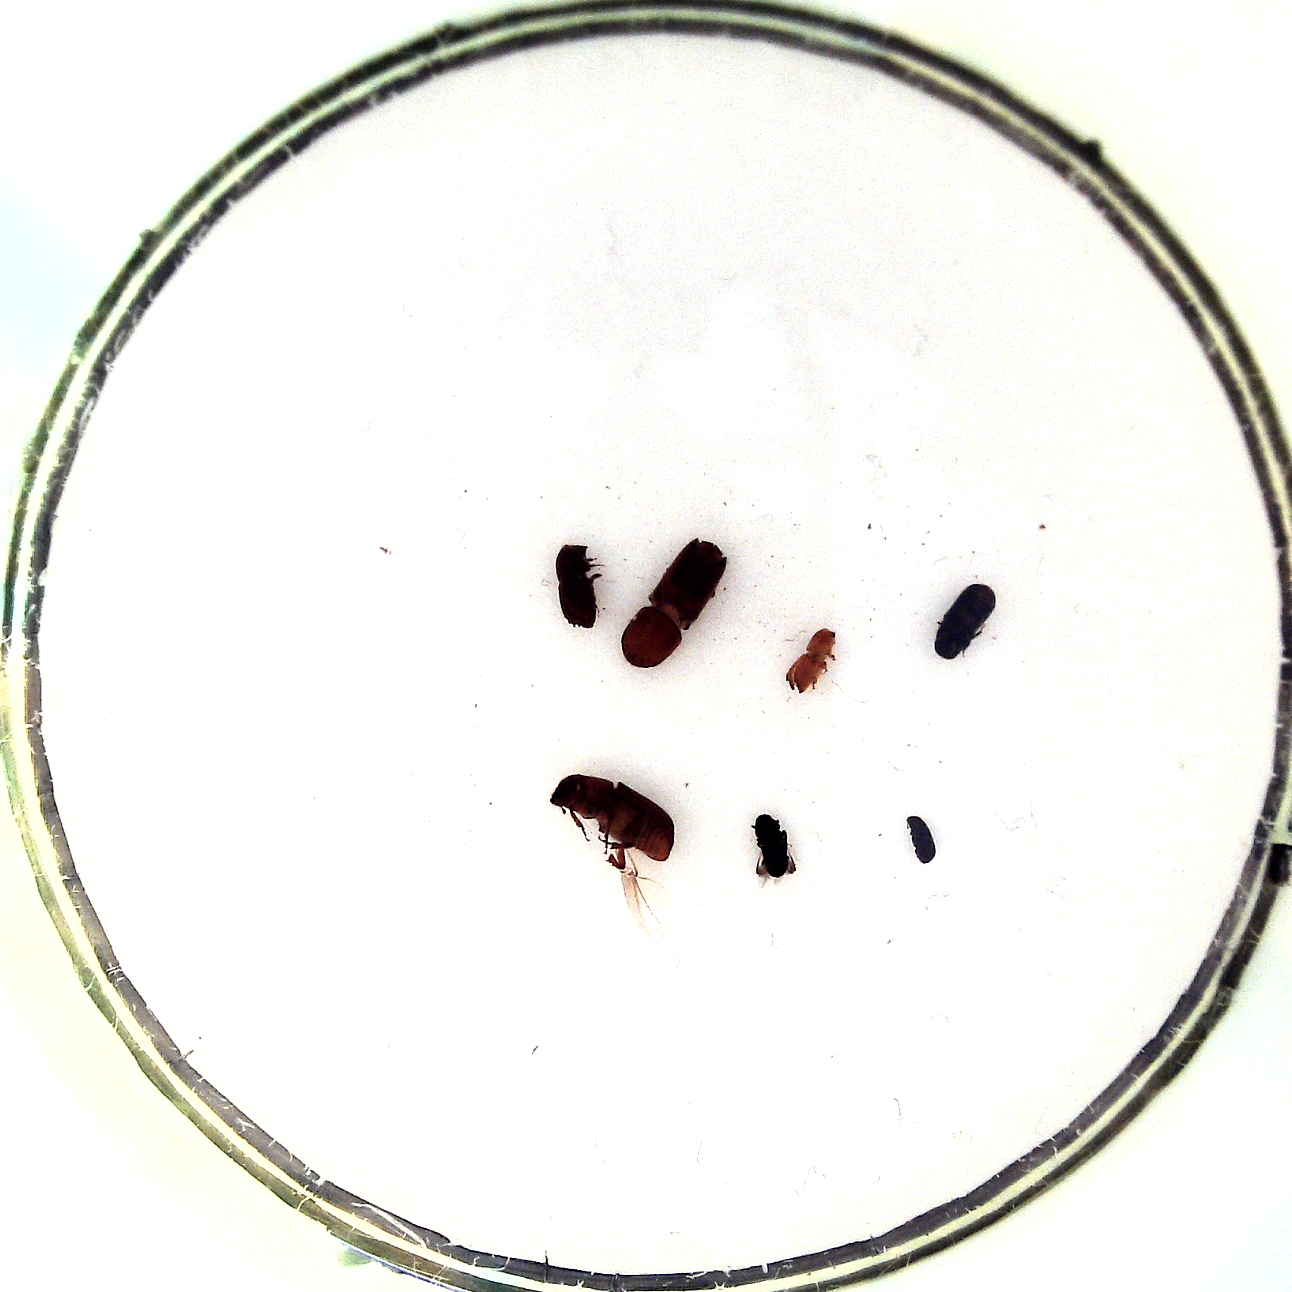Boerner: (609, 532, 729, 676)
Leconte: (545, 771, 681, 923)
Linnaeus: (553, 535, 609, 635)
acuminatus: (781, 625, 840, 697)
armandi: (928, 576, 999, 664)
coleoptera: (752, 809, 803, 892), (902, 810, 945, 868)
